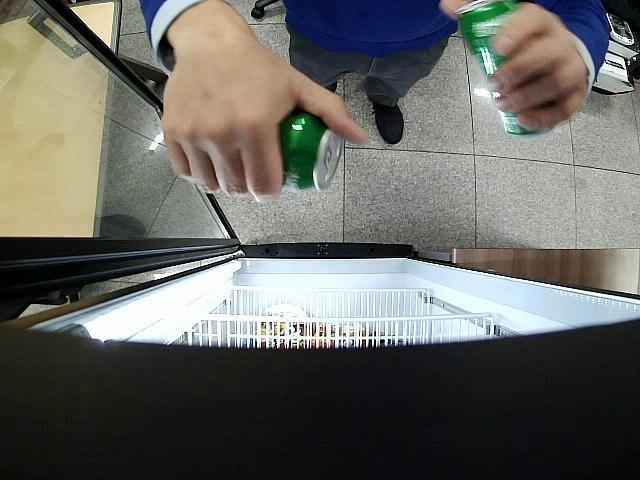12_chilsungCider: (454, 0, 548, 138), (280, 111, 342, 193)
